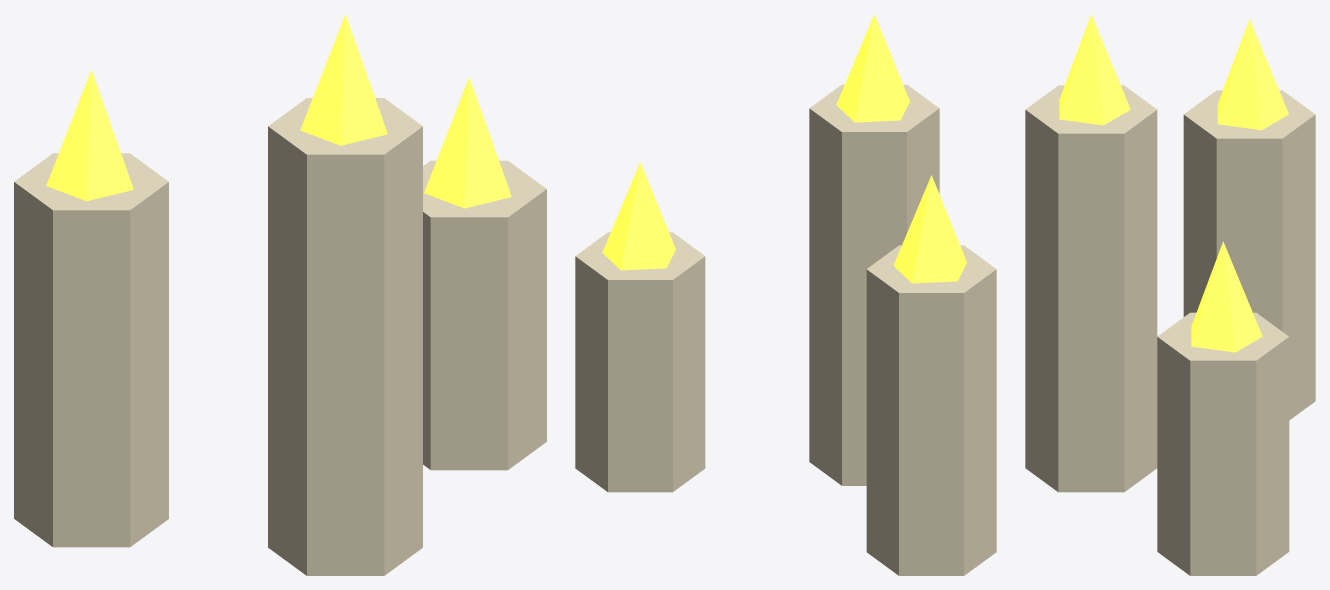
File: candle_cluster.glb
3 renders of one model, left to right at view 1: azimuth 30°, elevation 25°; view 2: azimuth 150°, elevation 25°; view 3: azimuth 270°, elevation 25°, orthographic. The views are drawn at different scales.
Parts seen in each view (by area): view 1: candle_cluster; view 2: candle_cluster; view 3: candle_cluster.
Boxes of the visible parts, x1,y1,x2,y2 form: candle_cluster: [14, 14, 546, 575]; candle_cluster: [575, 14, 996, 575]; candle_cluster: [1025, 14, 1315, 575].
Size of the model in its own units: 0.3566 by 0.38 by 0.22.
